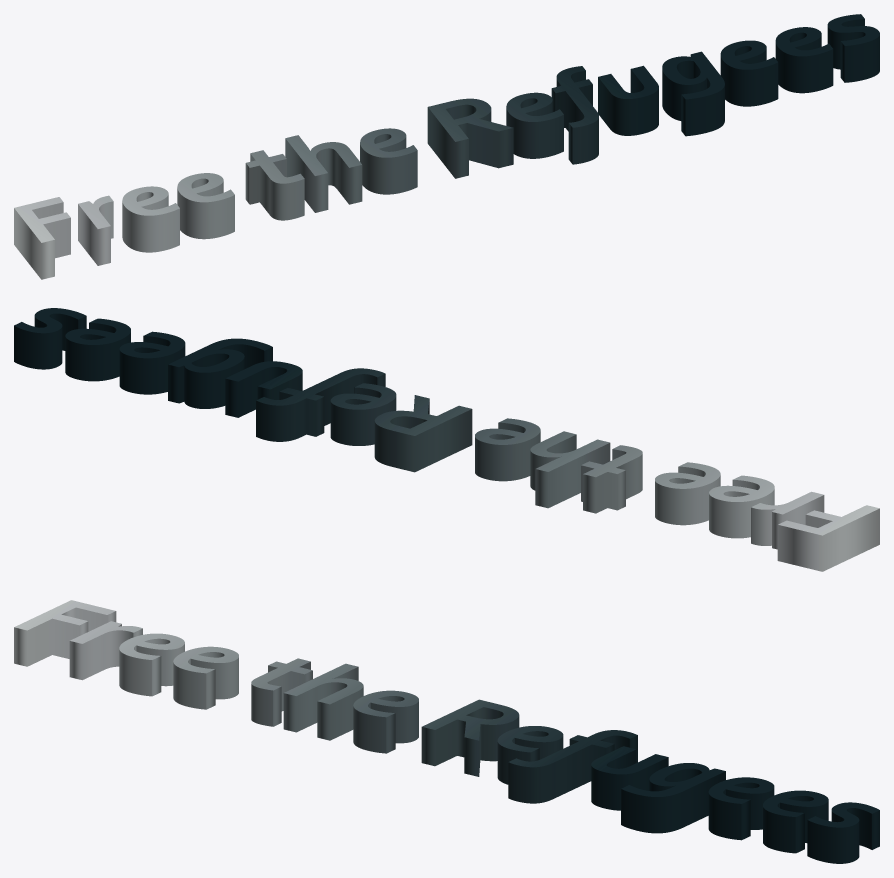
The picture shows the model from 3 angles, top to bottom: view 1: azimuth 30°, elevation 25°; view 2: azimuth 150°, elevation 25°; view 3: azimuth 330°, elevation 25°; orthographic projection.
Visible parts, largest first — view 1: 文字; view 2: 文字; view 3: 文字.
Part boxes in pixels (x1,y1,x2,y2): 文字: (14,14,879,279); 文字: (14,308,879,571); 文字: (14,600,879,863).
Bounding box in the file's own units: 6.27 × 0.26 × 0.8045.
1 material, 1 textured.
